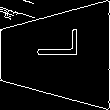L_W: (30, 40, 80, 70)
